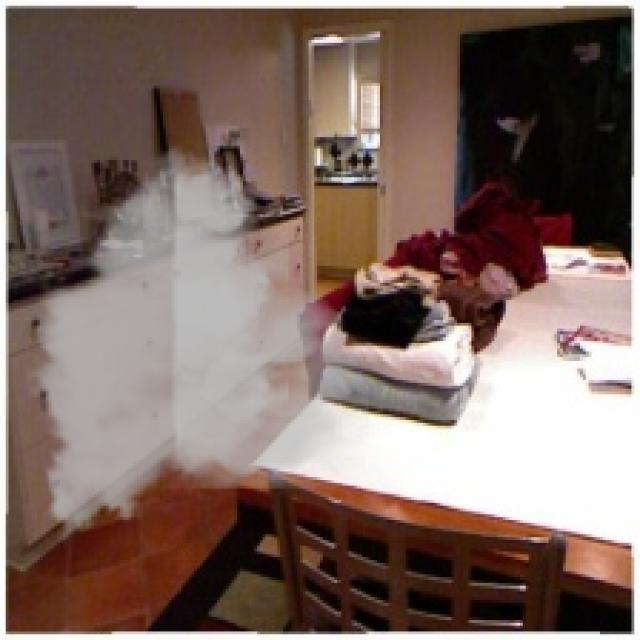Smoke: (22, 134, 368, 552)
